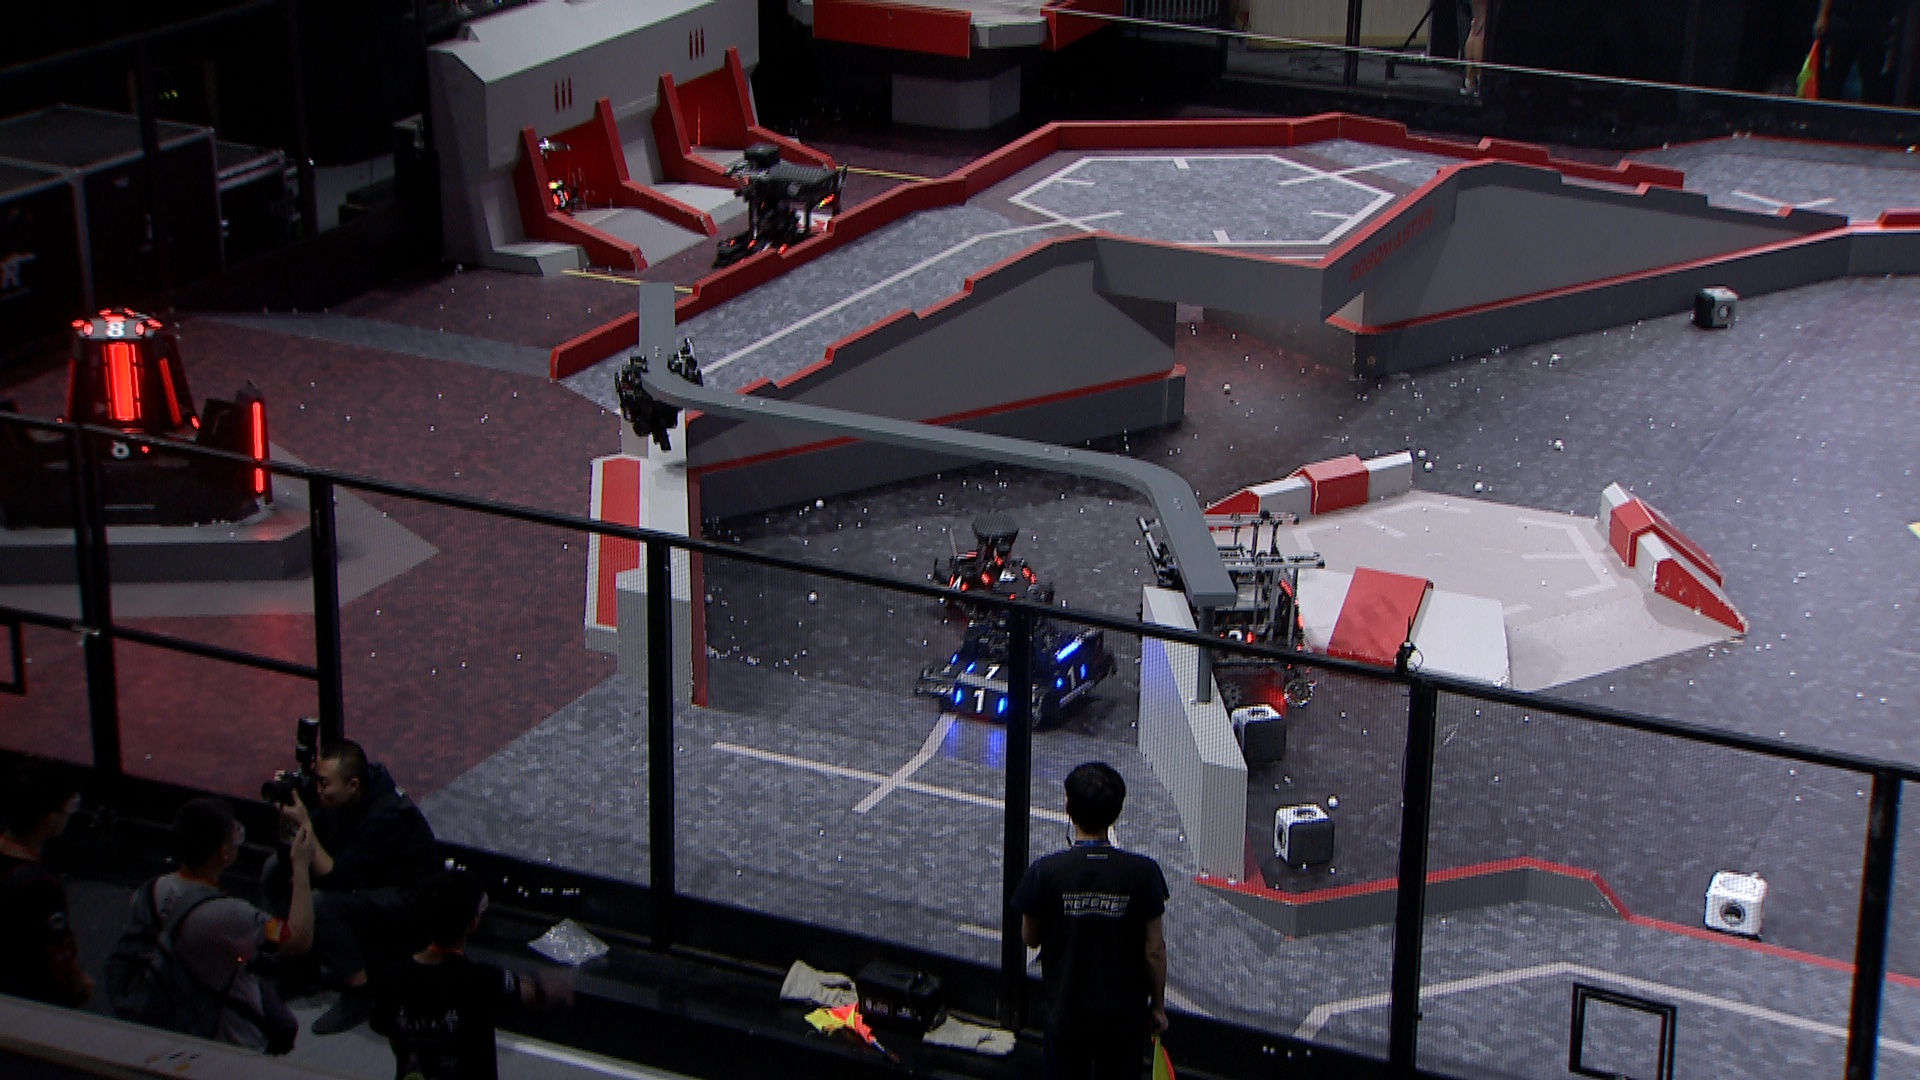armor: (102, 342, 148, 425), (158, 356, 186, 429), (249, 401, 269, 496), (949, 687, 1007, 717), (57, 357, 80, 429), (79, 318, 145, 343), (102, 438, 156, 462), (1054, 665, 1093, 694), (963, 659, 1007, 683), (1215, 628, 1258, 651), (981, 566, 1031, 585), (745, 240, 793, 257), (942, 575, 972, 597), (546, 190, 571, 207)
car: (1129, 508, 1323, 711), (913, 578, 1120, 731), (708, 142, 855, 291), (928, 512, 1048, 626), (485, 136, 585, 219)
watcher: (611, 338, 704, 454)
